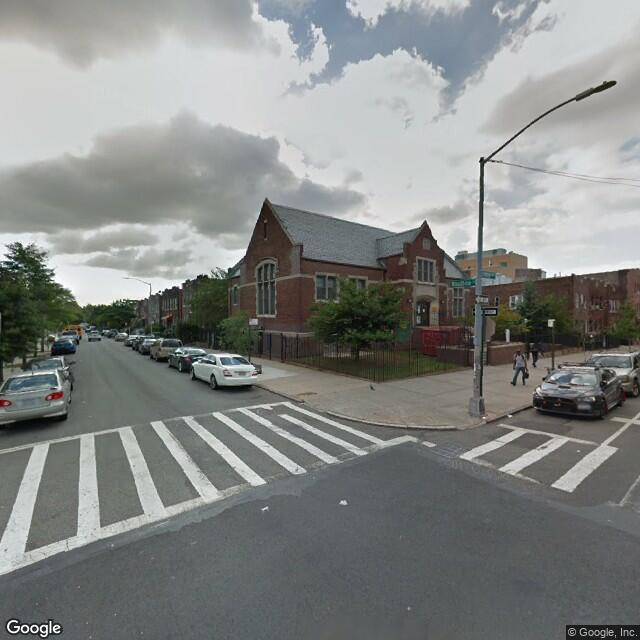litter: (505, 413, 521, 421), (476, 416, 490, 422)
